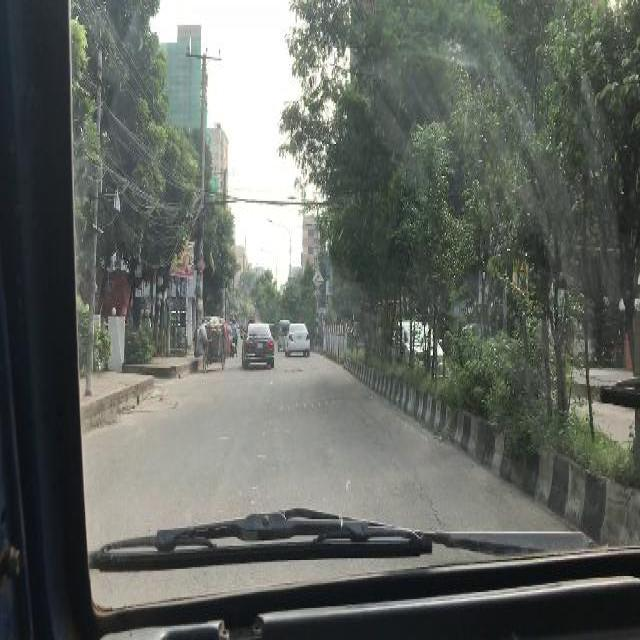bike: (233, 336, 238, 356)
vehicle: (391, 318, 447, 377), (243, 320, 276, 365), (286, 323, 310, 355), (278, 320, 290, 350)
